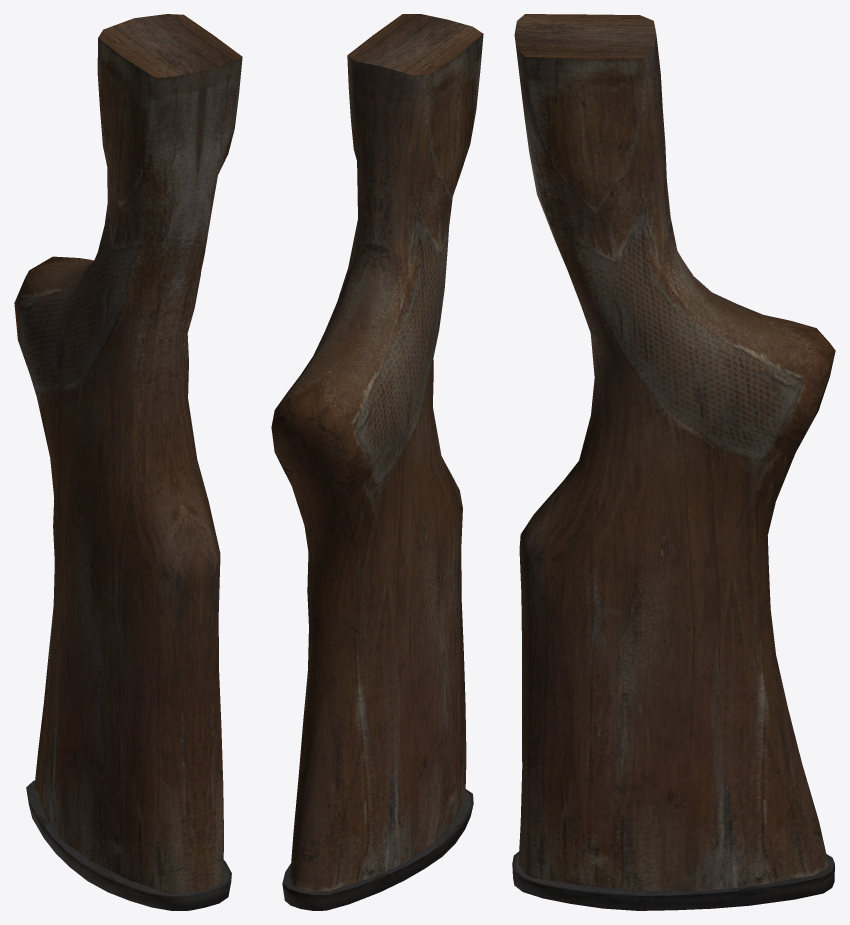
The model's file is ShotgunStock.obj.
The picture shows the model from 3 angles, left to right: view 1: azimuth 30°, elevation 25°; view 2: azimuth 150°, elevation 25°; view 3: azimuth 270°, elevation 25°; orthographic projection. The views are drawn at different scales.
Visible parts, largest first — view 1: Shotgun_Grip_Stock:0; view 2: Shotgun_Grip_Stock:0; view 3: Shotgun_Grip_Stock:0.
Part boxes in pixels (x1,y1,x2,y2): Shotgun_Grip_Stock:0: (14,14,242,910); Shotgun_Grip_Stock:0: (271,14,483,910); Shotgun_Grip_Stock:0: (512,14,835,910).
Bounding box in the file's own units: 4.43 × 30.57 × 10.48.
